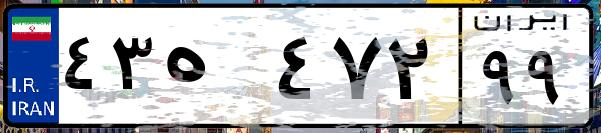2: (385, 28, 445, 110)
3: (110, 28, 158, 98)
4: (270, 28, 330, 110), (57, 26, 110, 100)
7: (330, 28, 385, 110)
9: (475, 38, 525, 113), (525, 38, 570, 115)
ه: (158, 20, 270, 120)
